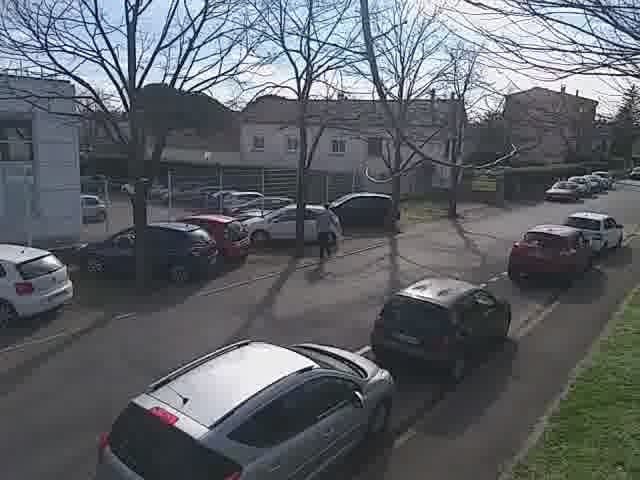persona: (311, 199, 344, 266)
